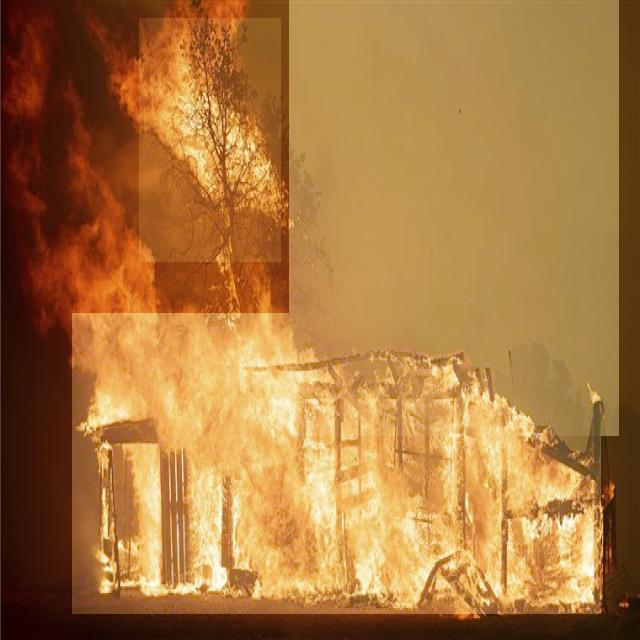Fire: (72, 313, 601, 614), (139, 18, 281, 262)
Smoke: (289, 0, 619, 436)
